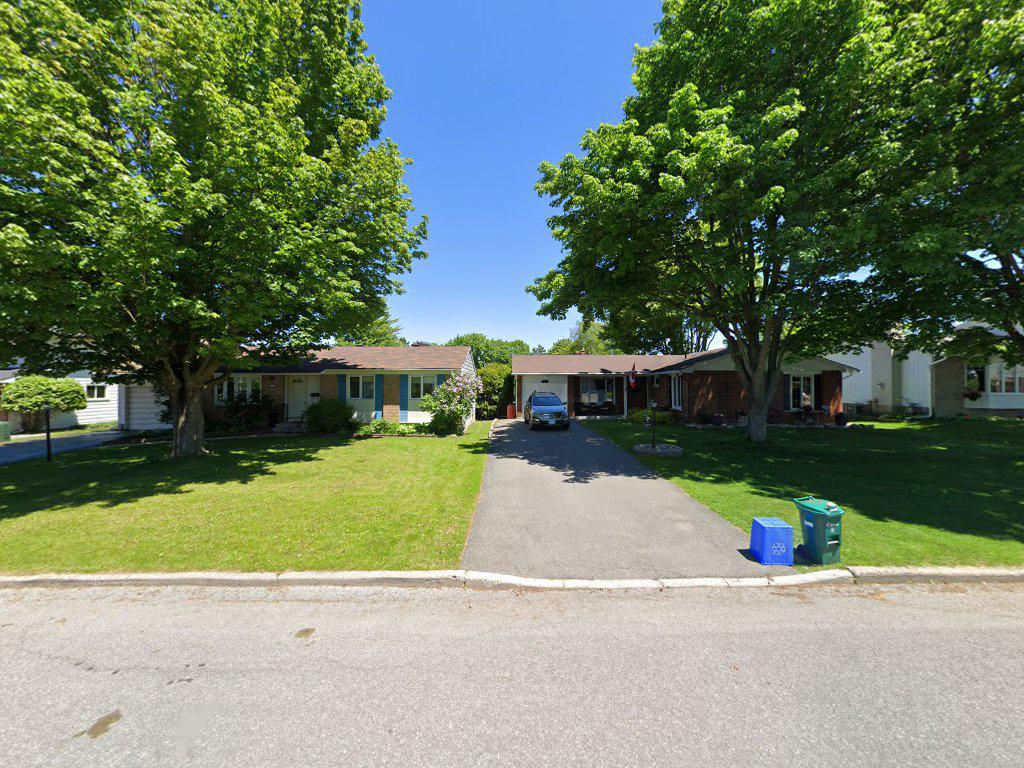trunk: (728, 332, 795, 457), (156, 345, 217, 478)
